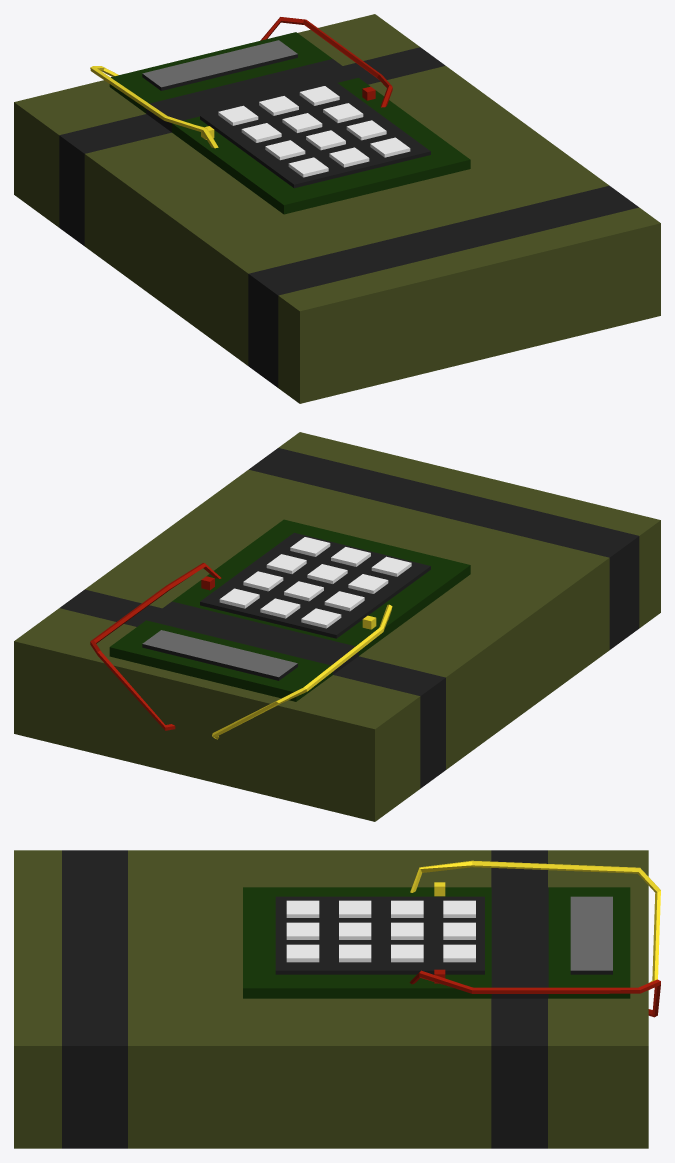
File: C4_Explosive.fbx
3 renders of one model, top to bottom at view 1: azimuth 30°, elevation 25°; view 2: azimuth 150°, elevation 25°; view 3: azimuth 270°, elevation 25°, orthographic. The views are drawn at different scales.
Visible parts, largest first — view 1: C4_Explosive; view 2: C4_Explosive; view 3: C4_Explosive.
Part boxes in pixels (left/top/right/bottom): C4_Explosive: left=14, top=14, right=660, bottom=403; C4_Explosive: left=14, top=432, right=660, bottom=821; C4_Explosive: left=14, top=850, right=660, bottom=1148.
Bounding box in the file's own units: 20.4 × 6.48 × 28.51.
